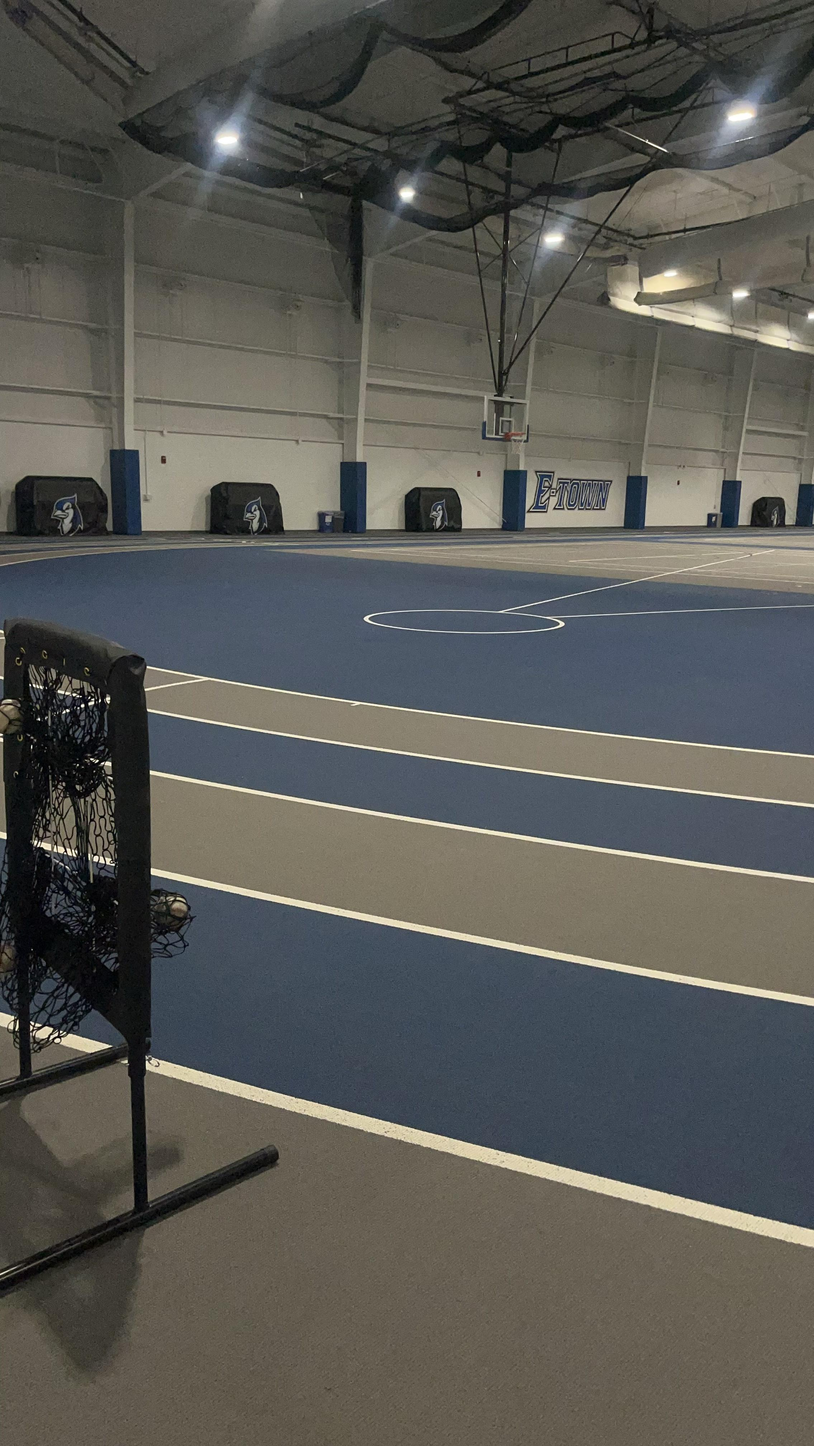Baseball: (151, 883, 199, 941), (0, 688, 26, 739)
